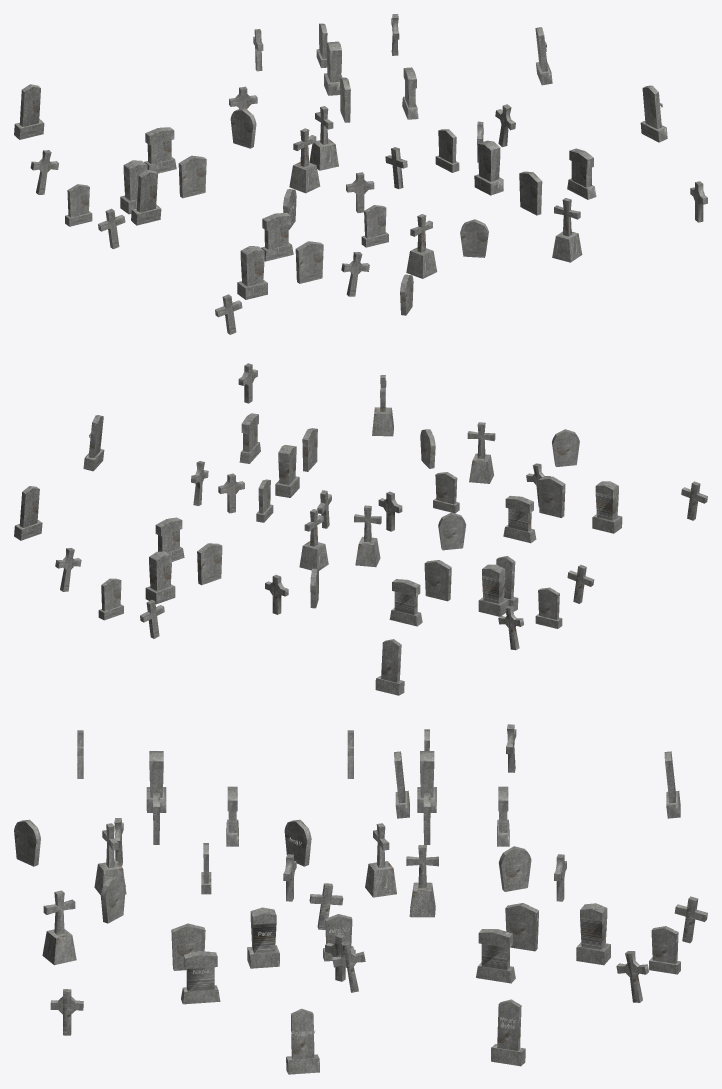
Rendered from groblje.fbx.
3 views of the same model, one above another, from view 1: azimuth 30°, elevation 25°; view 2: azimuth 150°, elevation 25°; view 3: azimuth 270°, elevation 25° (orthographic). The views are drawn at different scales.
Visible parts, largest first — view 1: mesh109; view 2: mesh109; view 3: mesh109.
Boxes of the visible parts, <box> form: mesh109: <box>14,14,707,334</box>; mesh109: <box>14,363,707,695</box>; mesh109: <box>14,724,707,1074</box>.
Bounding box in the file's own units: 601 × 73.06 × 577.
Materials: 2 (1 with a texture image).
